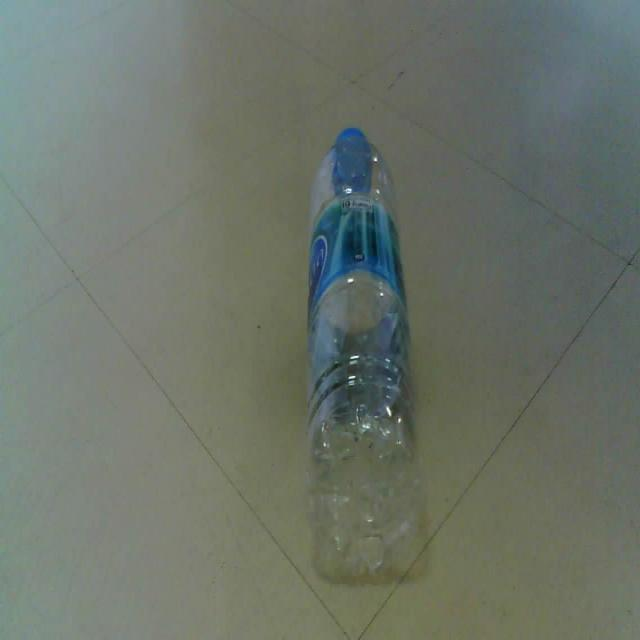empty: (306, 128, 420, 579)
